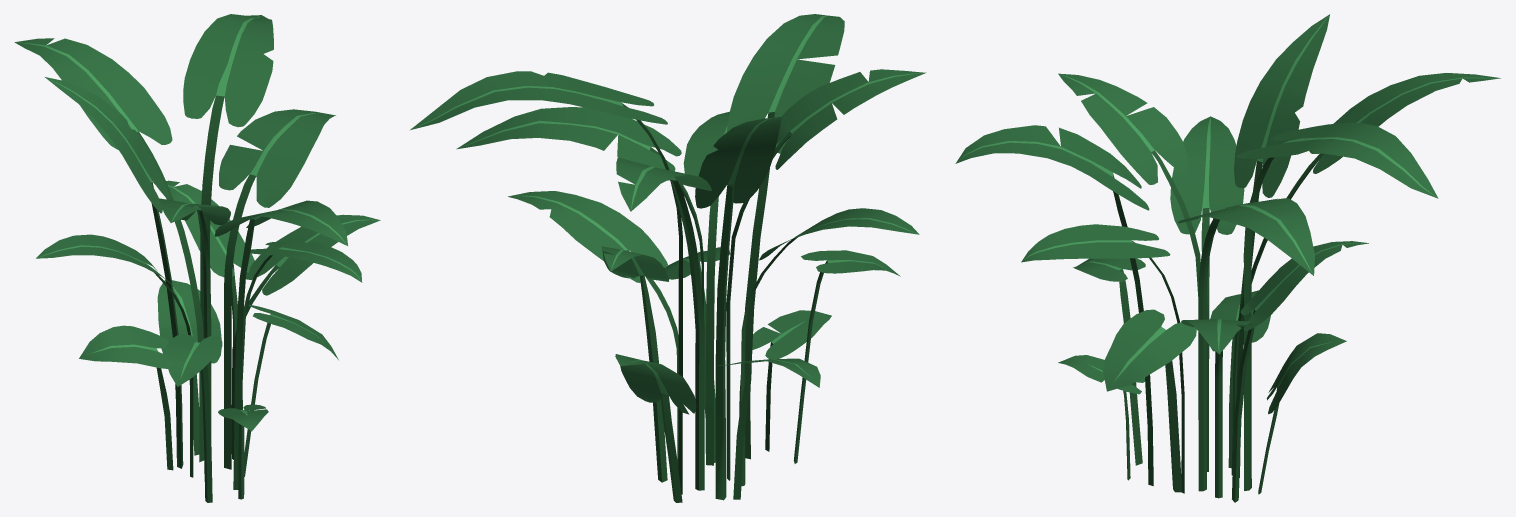
The model's file is plant_monstera_D_wild.fbx.
3 views of the same model, side by side, from view 1: azimuth 30°, elevation 25°; view 2: azimuth 150°, elevation 25°; view 3: azimuth 270°, elevation 25° (orthographic). The views are drawn at different scales.
Parts seen in each view (by area): view 1: plant_monstera_D_leaf_01, plant_monstera_D_leaf_42, plant_monstera_D_leaf_39, plant_monstera_D_leaf_40, plant_monstera_D_leaf_47, plant_monstera_D_leaf_50, plant_monstera_D_leaf_49, plant_monstera_D_leaf_51, plant_monstera_D_leaf_43, plant_monstera_D_leaf_46, plant_monstera_D_leaf_38, plant_monstera_D_leaf_48 (+3 smaller); view 2: plant_monstera_D_leaf_47, plant_monstera_D_leaf_40, plant_monstera_D_leaf_01, plant_monstera_D_leaf_42, plant_monstera_D_leaf_48, plant_monstera_D_leaf_49, plant_monstera_D_leaf_39, plant_monstera_D_leaf_44, plant_monstera_D_leaf_46, plant_monstera_D_leaf_38, plant_monstera_D_leaf_43, plant_monstera_D_leaf_52 (+3 smaller); view 3: plant_monstera_D_leaf_40, plant_monstera_D_leaf_01, plant_monstera_D_leaf_48, plant_monstera_D_leaf_47, plant_monstera_D_leaf_43, plant_monstera_D_leaf_42, plant_monstera_D_leaf_41, plant_monstera_D_leaf_44, plant_monstera_D_leaf_39, plant_monstera_D_leaf_38, plant_monstera_D_leaf_49, plant_monstera_D_leaf_46 (+3 smaller).
Part boxes in pixels (x1,y1,x2,y2): plant_monstera_D_leaf_01: (183,14,273,338); plant_monstera_D_leaf_42: (219,109,335,469); plant_monstera_D_leaf_39: (14,38,204,462); plant_monstera_D_leaf_40: (45,77,183,468); plant_monstera_D_leaf_47: (215,200,347,489); plant_monstera_D_leaf_50: (79,325,173,470); plant_monstera_D_leaf_49: (232,214,380,459); plant_monstera_D_leaf_51: (165,334,222,502); plant_monstera_D_leaf_43: (36,234,193,477); plant_monstera_D_leaf_46: (157,279,221,455); plant_monstera_D_leaf_38: (153,180,254,453); plant_monstera_D_leaf_48: (159,198,230,473); plant_monstera_D_leaf_47: (727,14,844,459); plant_monstera_D_leaf_40: (695,116,782,500); plant_monstera_D_leaf_01: (410,71,682,494); plant_monstera_D_leaf_42: (456,107,703,315); plant_monstera_D_leaf_48: (726,69,926,480); plant_monstera_D_leaf_49: (508,191,678,466); plant_monstera_D_leaf_39: (616,157,711,490); plant_monstera_D_leaf_44: (683,111,729,465); plant_monstera_D_leaf_46: (615,354,696,502); plant_monstera_D_leaf_38: (601,246,668,482); plant_monstera_D_leaf_43: (741,208,919,486); plant_monstera_D_leaf_52: (752,310,831,451); plant_monstera_D_leaf_40: (1231,14,1329,477); plant_monstera_D_leaf_01: (1236,122,1438,490); plant_monstera_D_leaf_48: (1058,73,1200,296); plant_monstera_D_leaf_47: (955,125,1153,486); plant_monstera_D_leaf_43: (1170,116,1244,471); plant_monstera_D_leaf_42: (1177,198,1314,491); plant_monstera_D_leaf_41: (1103,309,1196,492); plant_monstera_D_leaf_44: (1021,224,1184,493); plant_monstera_D_leaf_39: (1232,73,1500,465); plant_monstera_D_leaf_38: (1232,241,1368,502); plant_monstera_D_leaf_49: (1181,319,1256,498); plant_monstera_D_leaf_46: (1258,333,1346,494).
Bounding box in the file's own units: 213 × 223 × 267.
